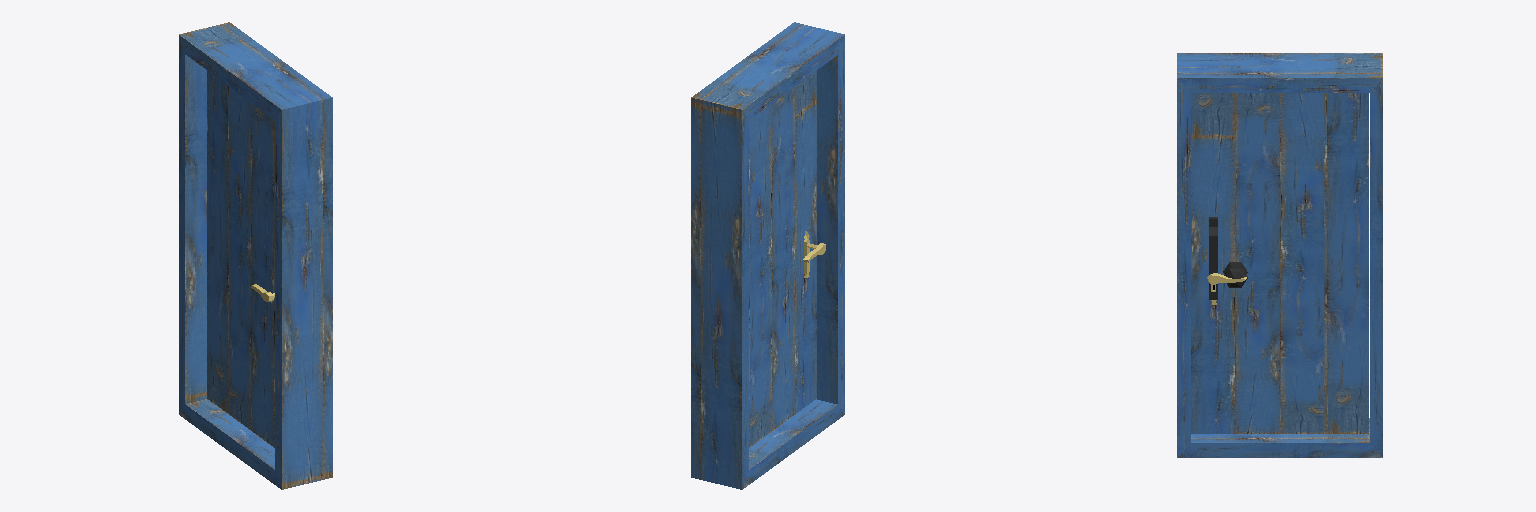
3 views of the same model, side by side, from view 1: azimuth 30°, elevation 25°; view 2: azimuth 150°, elevation 25°; view 3: azimuth 270°, elevation 25° (orthographic).
Visible parts, largest first — view 1: Rectangle06, Box03; view 2: Rectangle06, Box03; view 3: Box03, Rectangle06, Line05.
Part boxes in pixels (left/top/right/bottom): Rectangle06: left=179, top=22, right=332, bottom=489; Box03: left=207, top=71, right=274, bottom=447; Rectangle06: left=691, top=22, right=844, bottom=489; Box03: left=749, top=71, right=816, bottom=447; Box03: left=1191, top=93, right=1368, bottom=433; Rectangle06: left=1177, top=53, right=1382, bottom=457; Line05: left=1209, top=217, right=1217, bottom=299.
Bounding box in the file's own units: 0.3472 × 2.45 × 1.2.
4 materials, 1 textured.